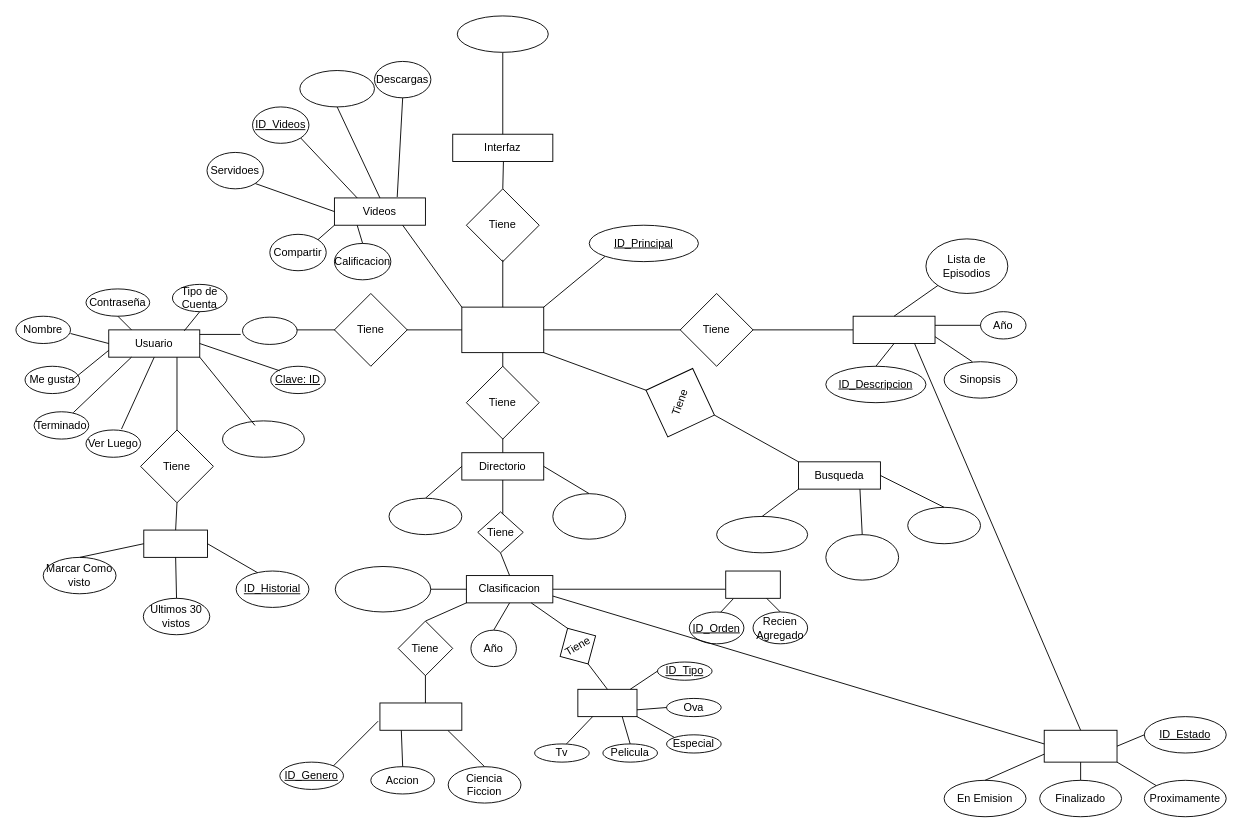
Image size: 1242x833. Some labels were removed from this diagram. Each missing label, with the box of its shape:
Acceso Rapido: (907, 506, 981, 544)
Comentarios: (299, 70, 374, 107)
Descripcion: (852, 315, 935, 344)
Estado: (1043, 729, 1117, 762)
Filtros: (552, 493, 626, 539)
Genero: (379, 702, 462, 730)
Historial: (143, 529, 207, 557)
ID_Busqueda: (716, 516, 808, 553)
ID_Clasificacion: (334, 566, 431, 612)
ID_Directorio: (388, 497, 462, 535)
ID_Interfaz: (456, 15, 548, 52)
Orden: (725, 570, 780, 598)
Palabras Clave: (825, 534, 899, 580)
Principal: (461, 306, 544, 353)
Recomendacion: (222, 420, 304, 457)
Siguiendo: (242, 316, 297, 344)
Tipo: (577, 688, 637, 717)
